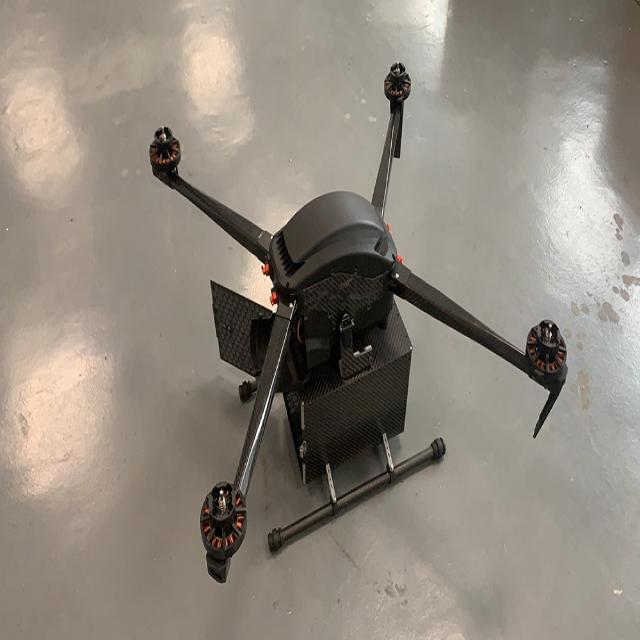drone: (127, 50, 592, 586)
